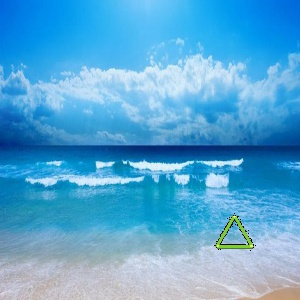triangle: (211, 211, 257, 252)
